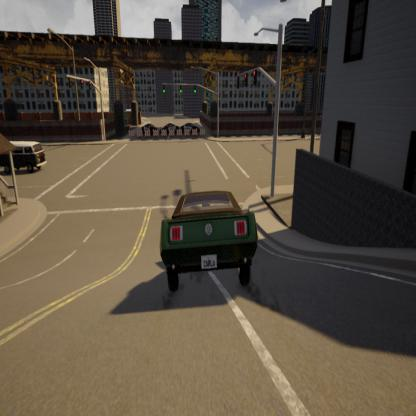Cars: (142, 186, 264, 298), (0, 134, 53, 177), (177, 118, 204, 136), (140, 122, 162, 137), (161, 120, 182, 135)
